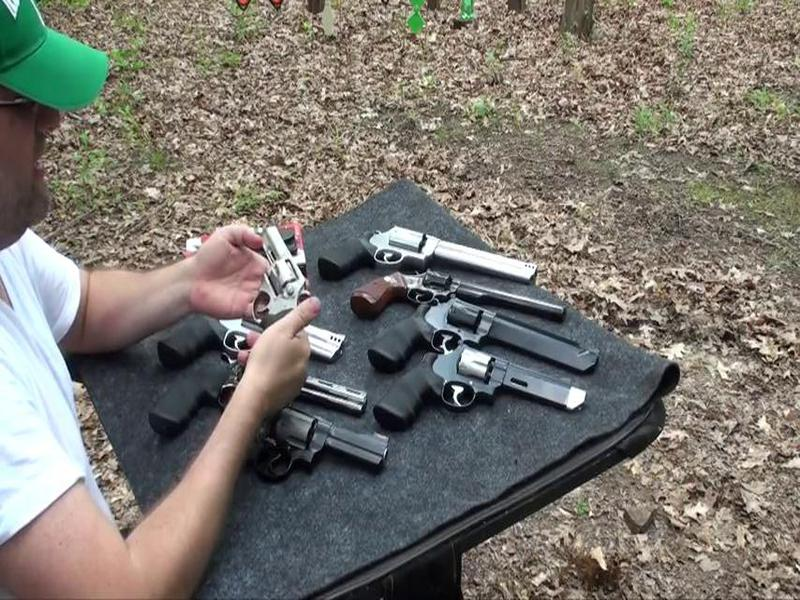Revolver: (236, 212, 307, 332)
